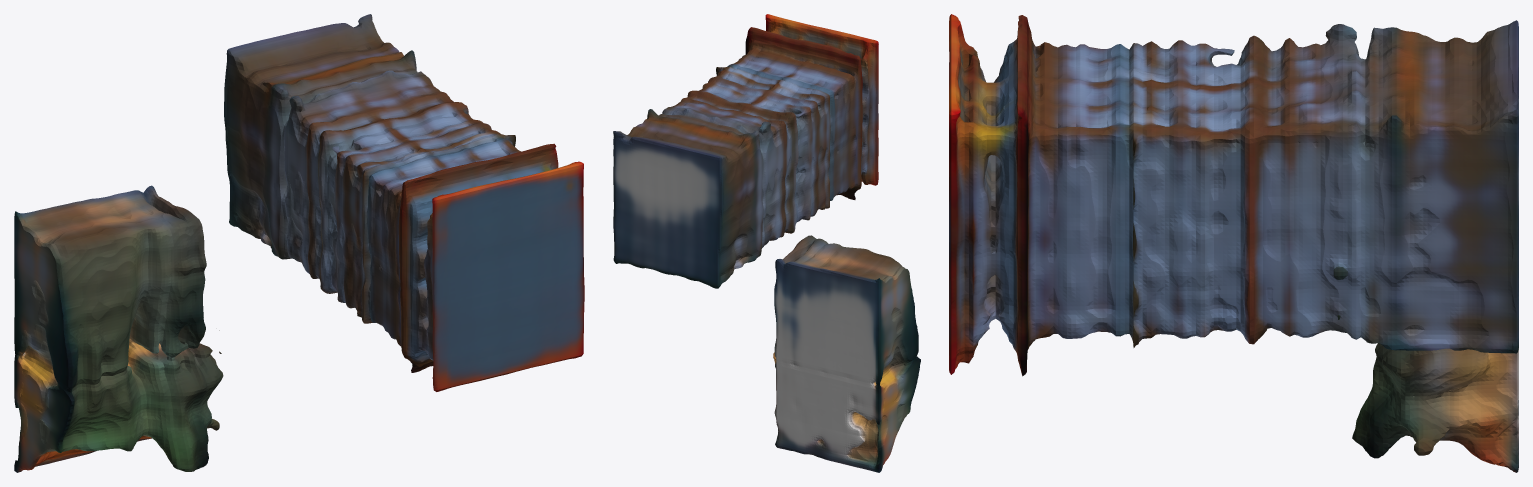
The picture shows the model from 3 angles, left to right: view 1: azimuth 30°, elevation 25°; view 2: azimuth 150°, elevation 25°; view 3: azimuth 270°, elevation 25°; orthographic projection. The views are drawn at different scales.
Visible parts, largest first — view 1: model.ply; view 2: model.ply; view 3: model.ply.
Boxes of the visible parts, x1,y1,x2,y2 form: model.ply: (14,14,584,472); model.ply: (613,14,920,472); model.ply: (949,14,1518,472).
Bounding box in the file's own units: 1.98 × 1.96 × 1.98.
